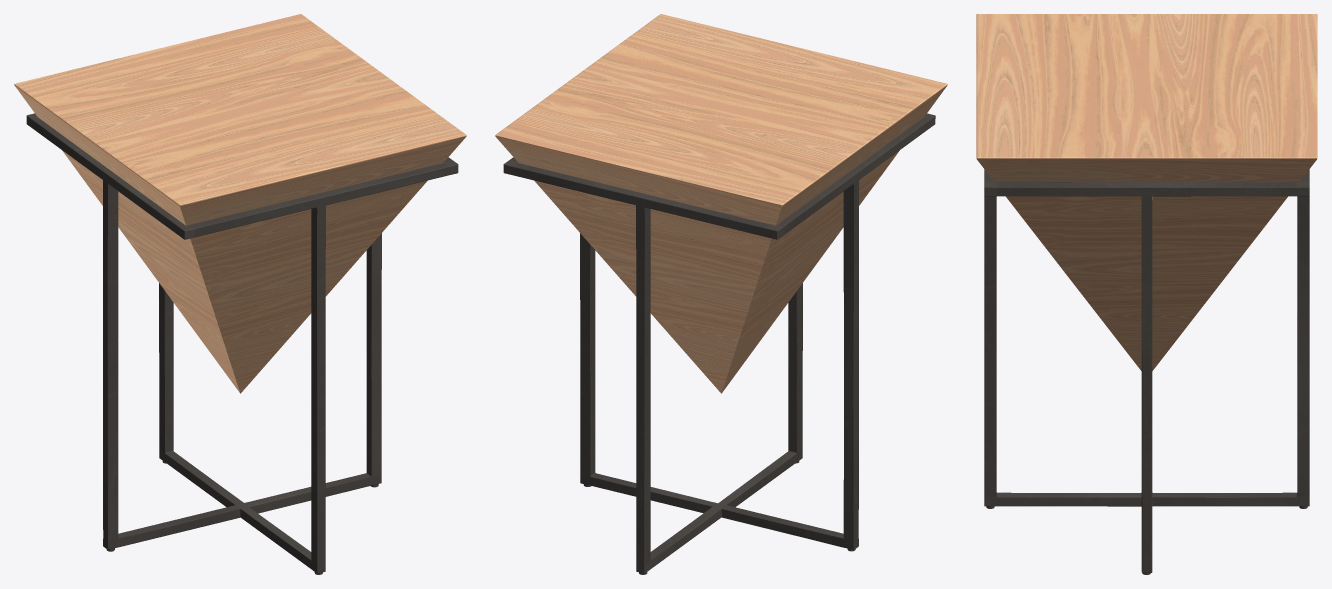
File: mv_SideTable.fbx
The picture shows the model from 3 angles, left to right: view 1: azimuth 30°, elevation 25°; view 2: azimuth 150°, elevation 25°; view 3: azimuth 270°, elevation 25°; orthographic projection. The views are drawn at different scales.
Visible parts, largest first — view 1: SideTable_LOD0; view 2: SideTable_LOD0; view 3: SideTable_LOD0.
Boxes of the visible parts, bbox=[...] form: SideTable_LOD0: bbox=[14, 14, 466, 574]; SideTable_LOD0: bbox=[495, 14, 947, 574]; SideTable_LOD0: bbox=[976, 14, 1317, 574].
Size of what is drawn, in the model's own units: 49.25 by 66.98 by 49.25.
